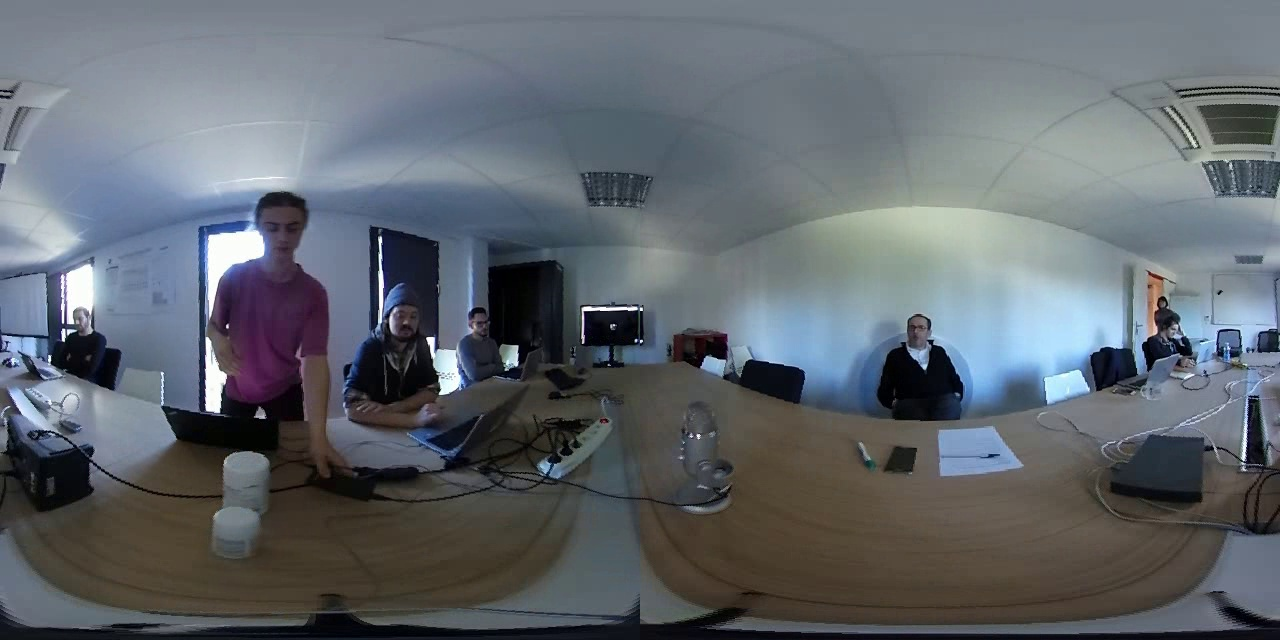person: (194, 176, 346, 425), (338, 279, 449, 406), (861, 306, 977, 416), (44, 298, 120, 376), (455, 304, 520, 394), (1140, 315, 1195, 364), (1144, 283, 1182, 324)
